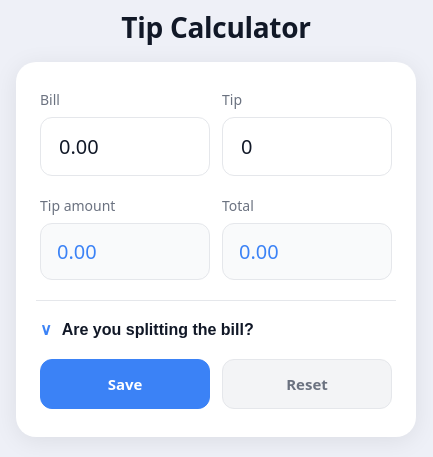
Test case: App – Bill input › rejects more than 2 decimal places
The width and height of the screenshot is (433, 457).
Replace the text in the field labelled "Bill" with "1.999" at (125, 146), box 57,132 -> 193,160
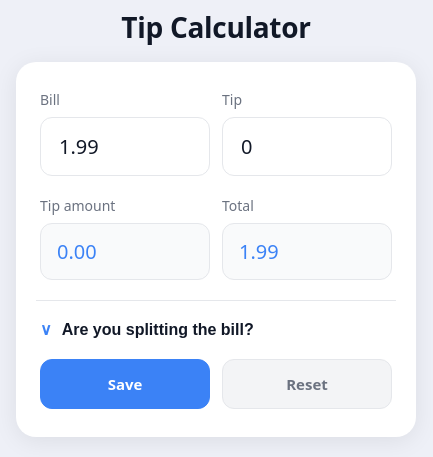
Expected: the field labelled "Bill" holds "1.99", 57,132 -> 193,160
